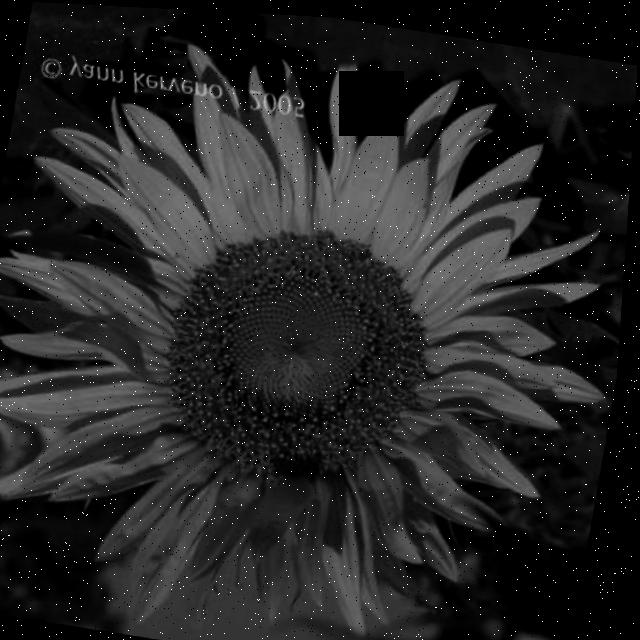sunflower: (0, 32, 638, 640)
